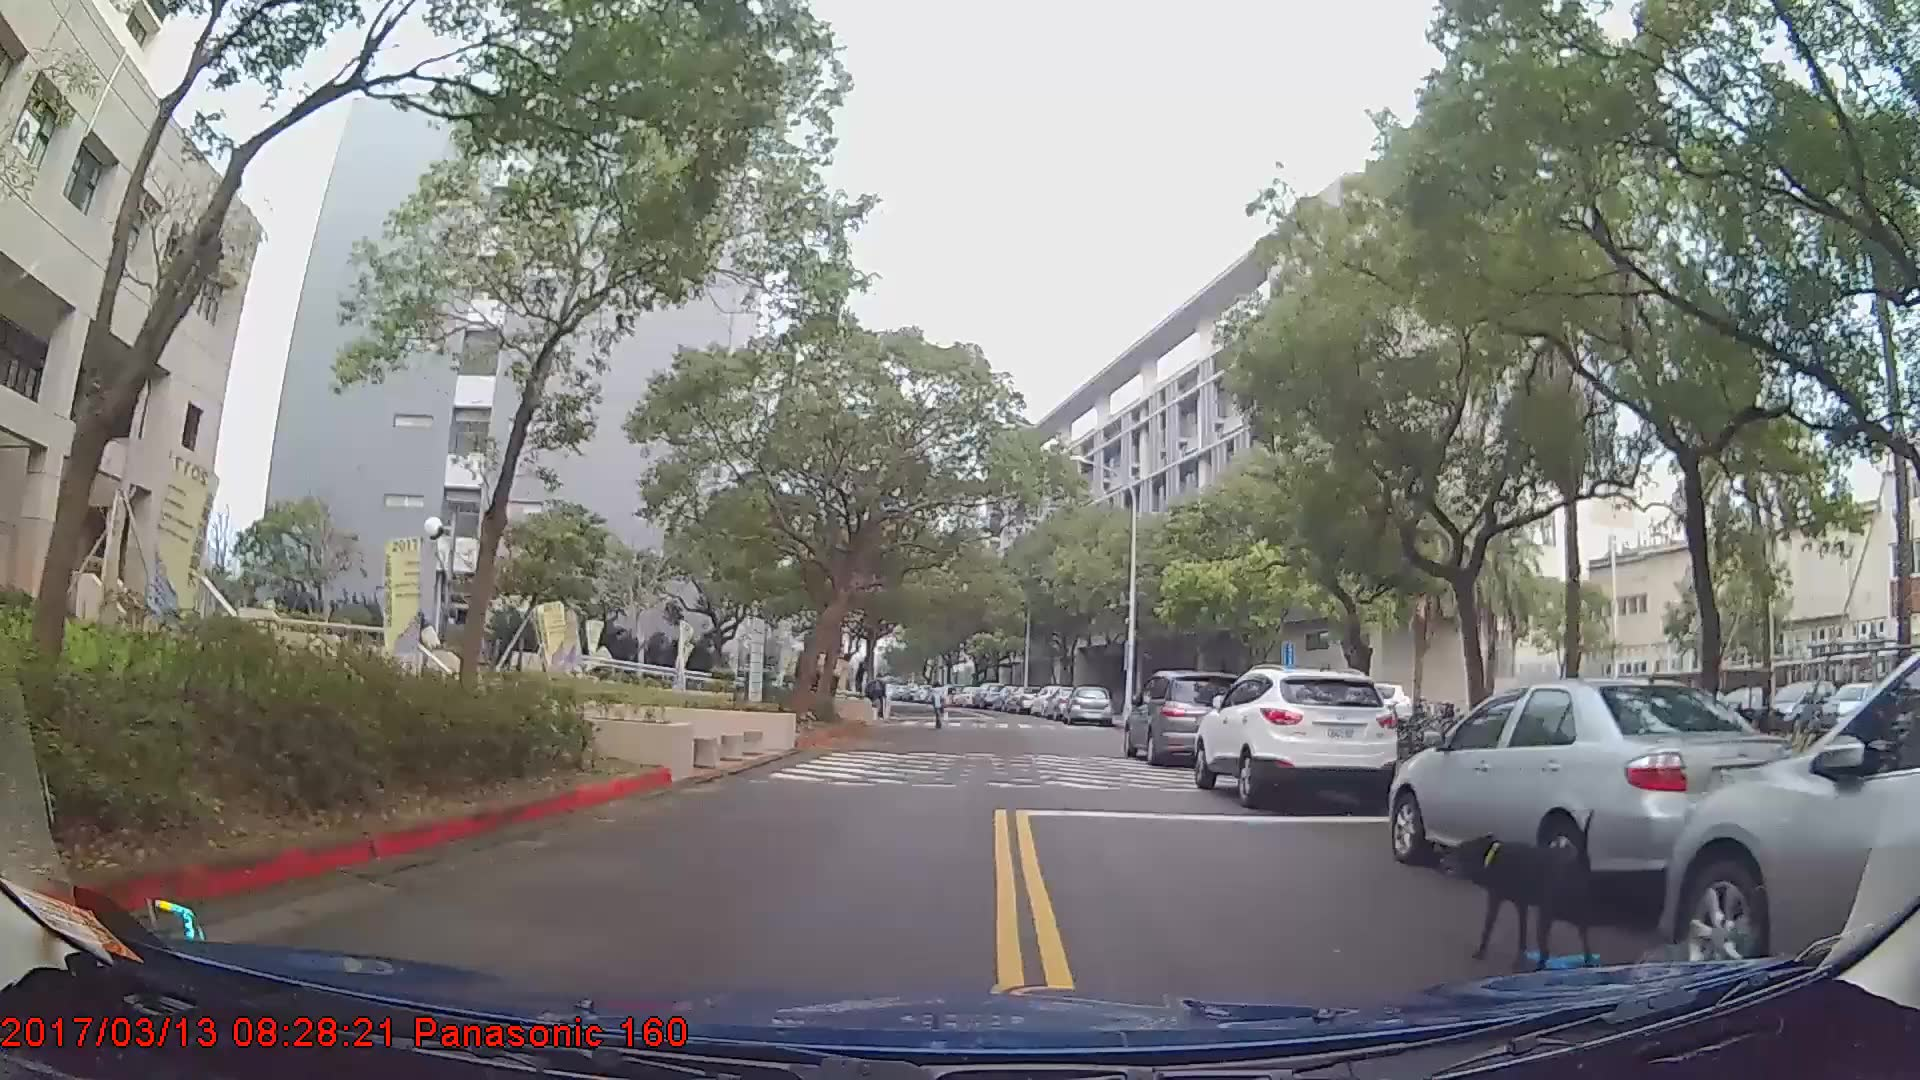pedestrian: (924, 682, 949, 732), (867, 674, 890, 722)
vehicle: (1384, 676, 1802, 902), (1659, 655, 1920, 999), (1191, 664, 1401, 811), (1123, 670, 1254, 764), (1064, 681, 1111, 726), (972, 680, 1004, 709)
